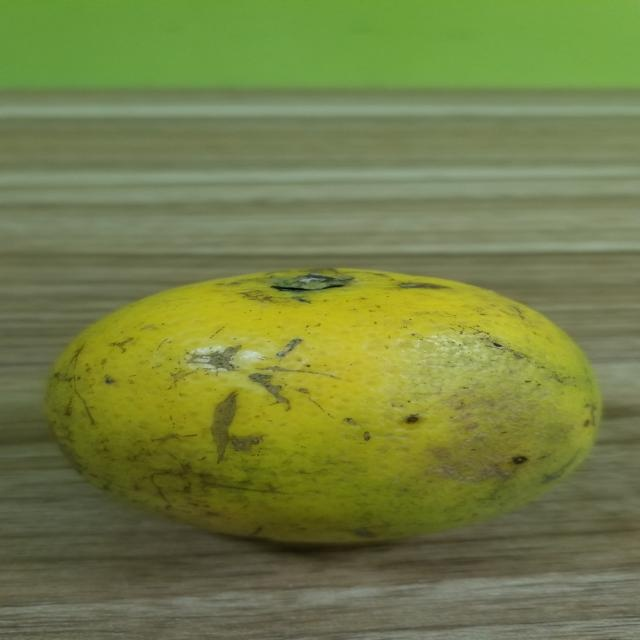agrume: (29, 264, 611, 557)
